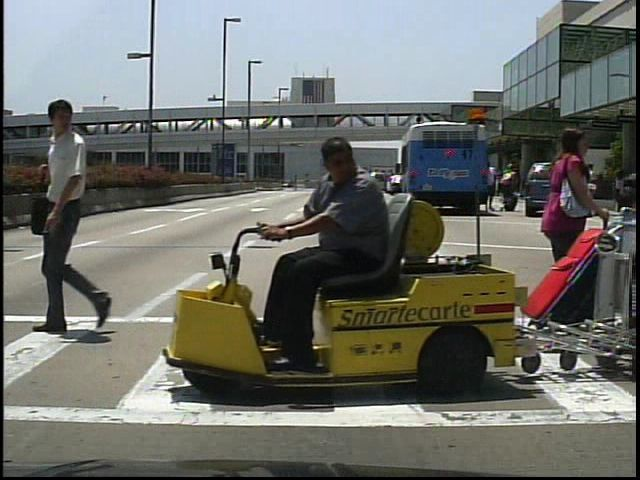person: (256, 134, 399, 373), (32, 99, 131, 334), (532, 121, 596, 354), (579, 180, 639, 326), (501, 164, 521, 218), (480, 162, 500, 216), (580, 163, 601, 214)
